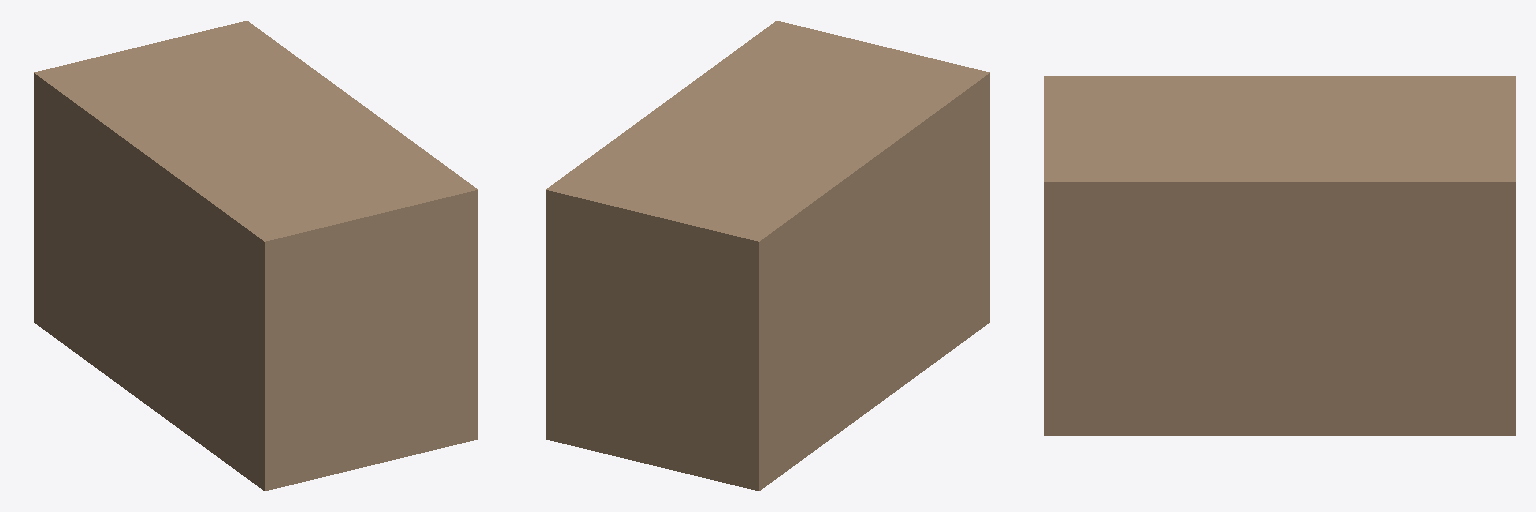
The robot description file, URDF, robot "box.urdf":
<?xml version="1.0" ?>
<robot name="box.urdf">
  <link name="baseLink">
    <contact>
      <lateral_friction value="1.0"/>
      <rolling_friction value="0.0001"/>
      <inertia_scaling value="3.0"/>
    </contact>
    <inertial>
      <origin rpy="0 0 0" xyz="0 0 0"/>
       <mass value="0.1"/>
       <inertia ixx="1" ixy="0" ixz="0" iyy="1" iyz="0" izz="1"/>
    </inertial>
    <visual>
      <origin rpy="0 0 0" xyz="0 0 0"/>
      <geometry>
        <!-- <box size="0.20600000000000002 0.386 0.23"/> -->
        <mesh filename="box/box.obj" scale="0.20600000000000002 0.386 0.23"/>
      </geometry>
      <material name="white">
        <color rgba="0.7 0.6 0.5 1"/>
      </material>
    </visual>
    <collision>
      <origin rpy="0 0 0" xyz="0 0 0"/>
      <geometry>
        <mesh filename="box/box.obj" scale="0.20600000000000002 0.386 0.23"/>
	 	    <!-- <box size="0.20600000000000002 0.386 0.23"/> -->
      </geometry>
    </collision>
  </link>
</robot>

--- Render facts (derived) ---
3 views of the same robot in one strip: view 1: azimuth 30°, elevation 25°; view 2: azimuth 150°, elevation 25°; view 3: azimuth 270°, elevation 25° (orthographic).
Robot: box.urdf — 1 links, 0 joints (none); root link baseLink; default pose: every joint at zero.
Visible links, largest first — view 1: baseLink; view 2: baseLink; view 3: baseLink.
Boxes of the visible links, box(x1,y1,x2,y2) form: baseLink: box(34, 21, 477, 490); baseLink: box(546, 21, 989, 490); baseLink: box(1044, 76, 1515, 435).
Bounding box of the posed robot: 0.206 × 0.386 × 0.23 m (x, y, z).
1 mesh visuals loaded from 1 distinct referenced files (1 OBJ).
